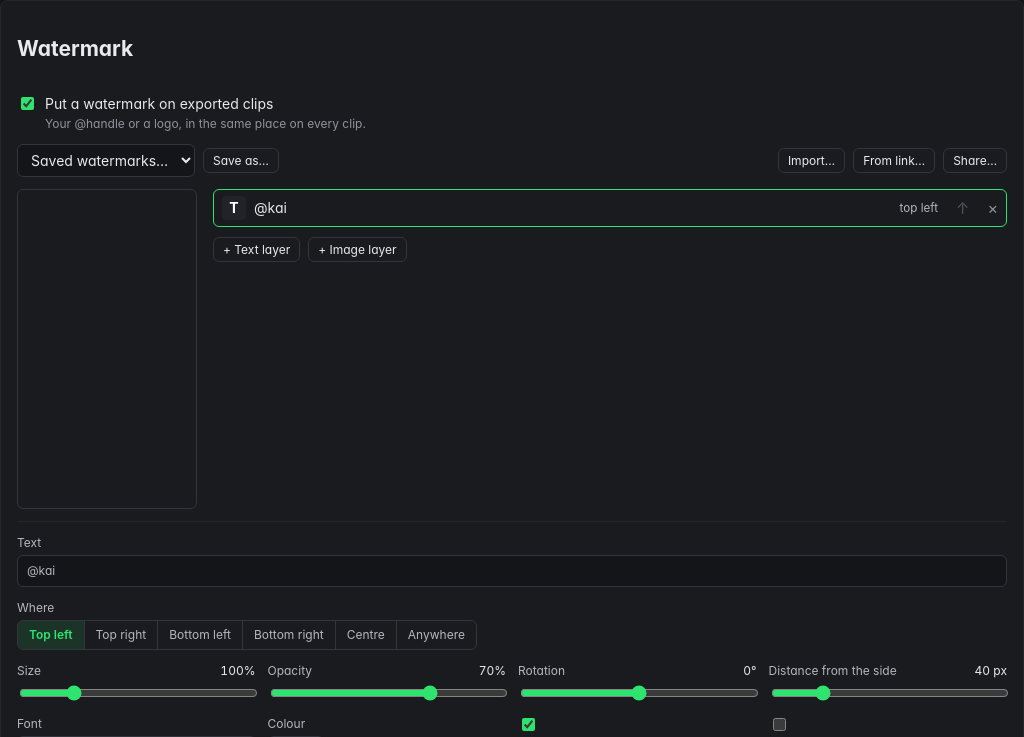
Watermark › a new layer stays while the settings come back in any order
The image size is (1024, 737).
expect the field showing "@kai" is shown: met, box 17,555 -> 1007,587
Click the button "+ Text layer" at (257, 250), box 213,237 -> 300,262
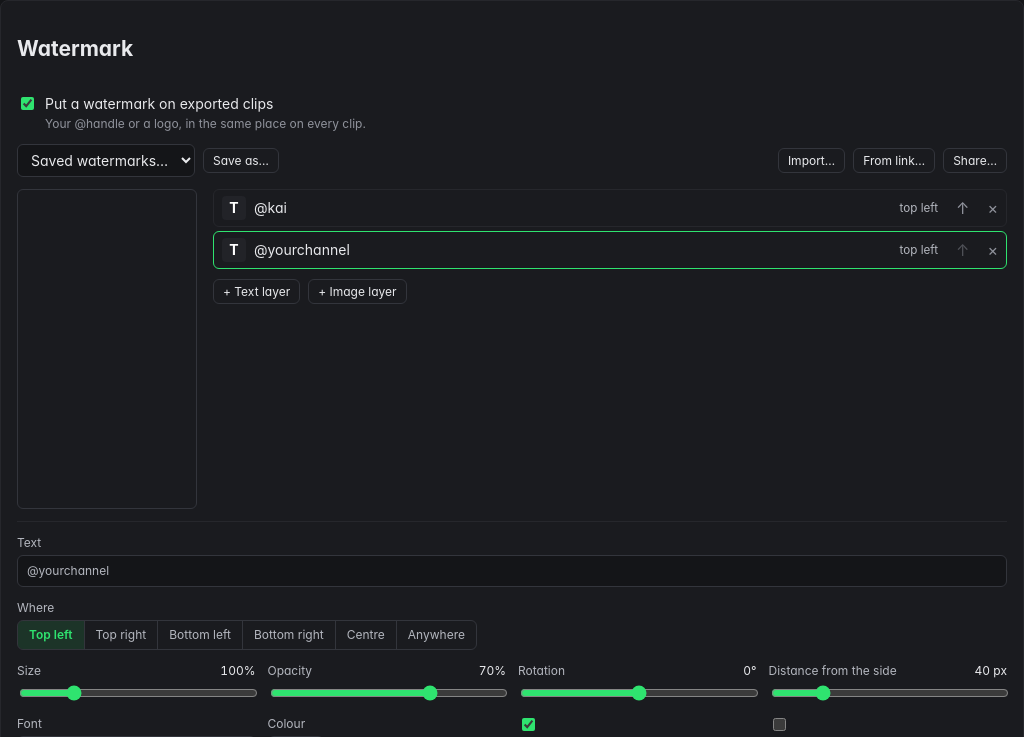
expect the button named "Remove layer 2" is shown: met, box 979,238 -> 1006,262
